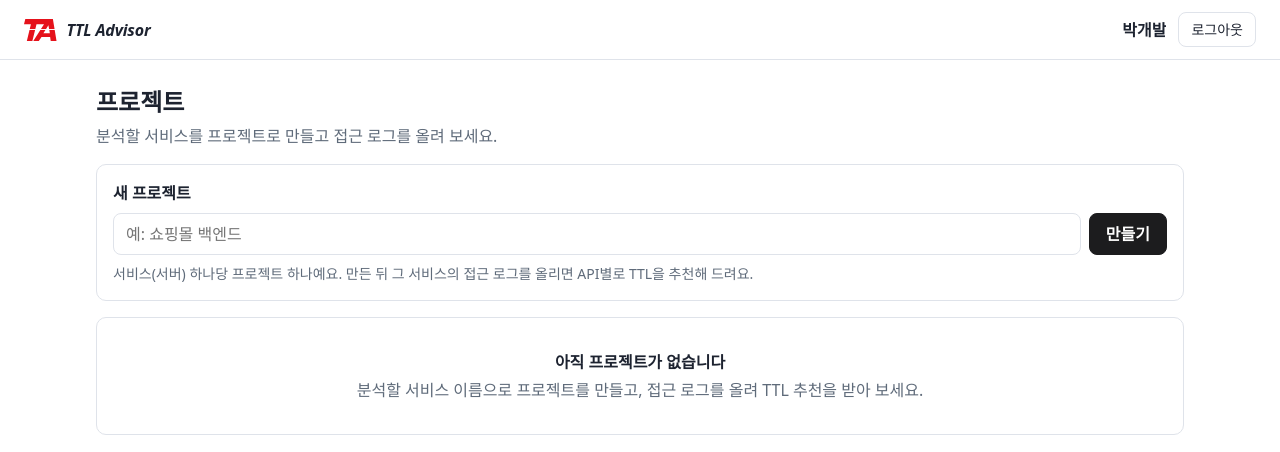
Test case: 프로젝트 생성 › 요청 중에는 버튼을 막아 두 번 만들지 않는다
Type "a" into the field labelled "새 프로젝트".
click(597, 234); type("a")  # box [113,213,1081,255]
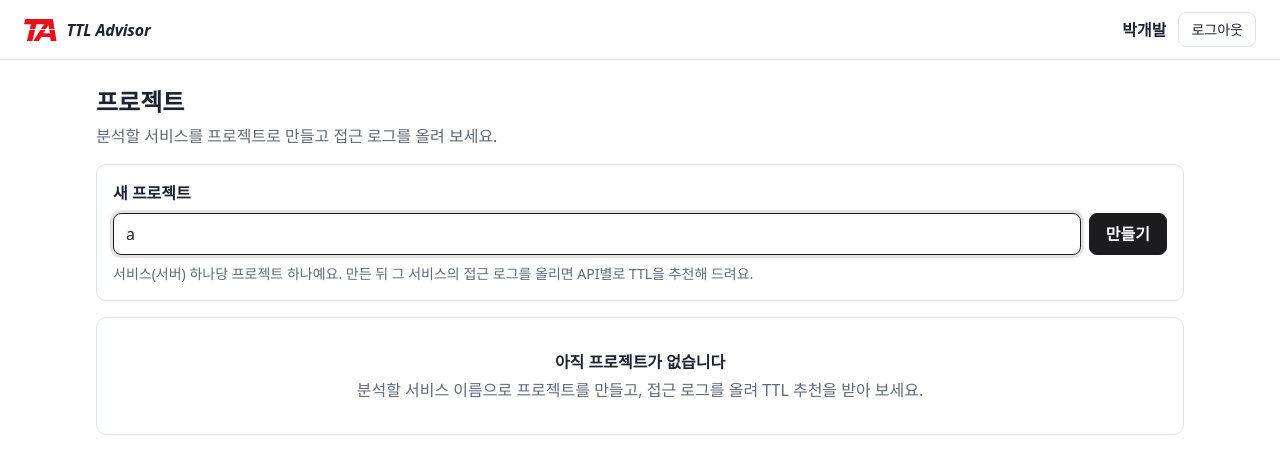
Click the button "만들기".
click(1128, 234)  # box [1089,213,1167,255]
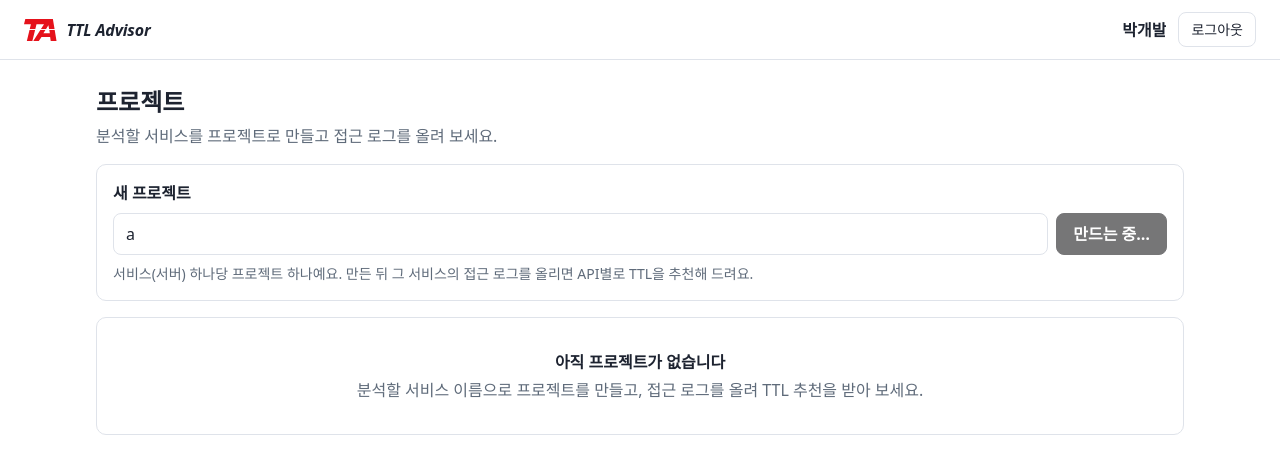
Check: the button "만드는 중…" is disabled
Click the button "만드는 중…".
click(1112, 234)  # box [1056,213,1167,255]
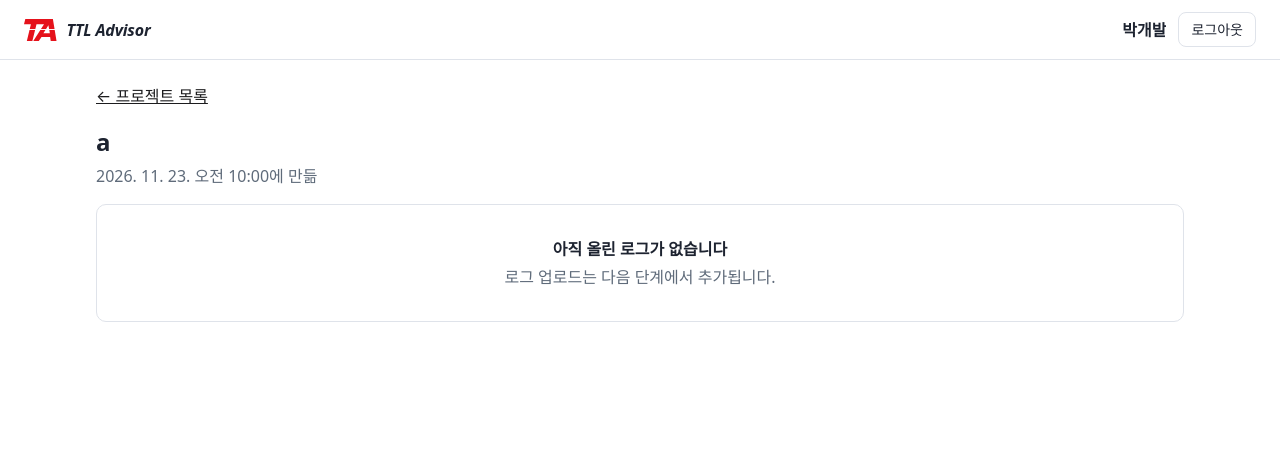
Check: the heading "a" is shown, box [96,125,110,158]
